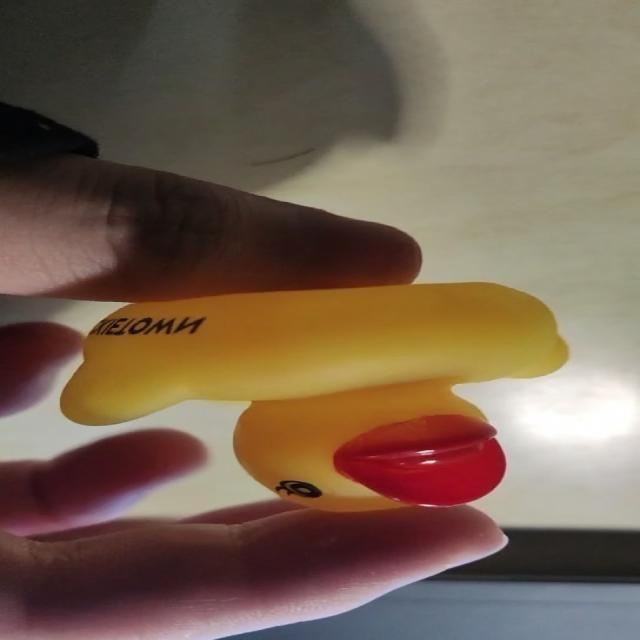rubber-duck: (60, 282, 566, 508)
